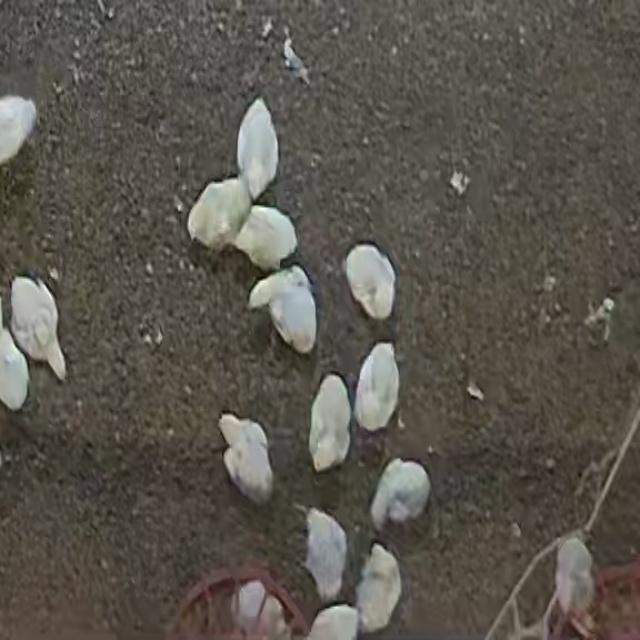chicken: (245, 261, 321, 358), (214, 408, 278, 511), (9, 275, 67, 381), (305, 373, 354, 475), (187, 177, 252, 253), (343, 240, 400, 326), (235, 95, 279, 201), (354, 541, 403, 635), (354, 342, 402, 433), (371, 458, 430, 532), (303, 507, 347, 602), (233, 204, 297, 269)
